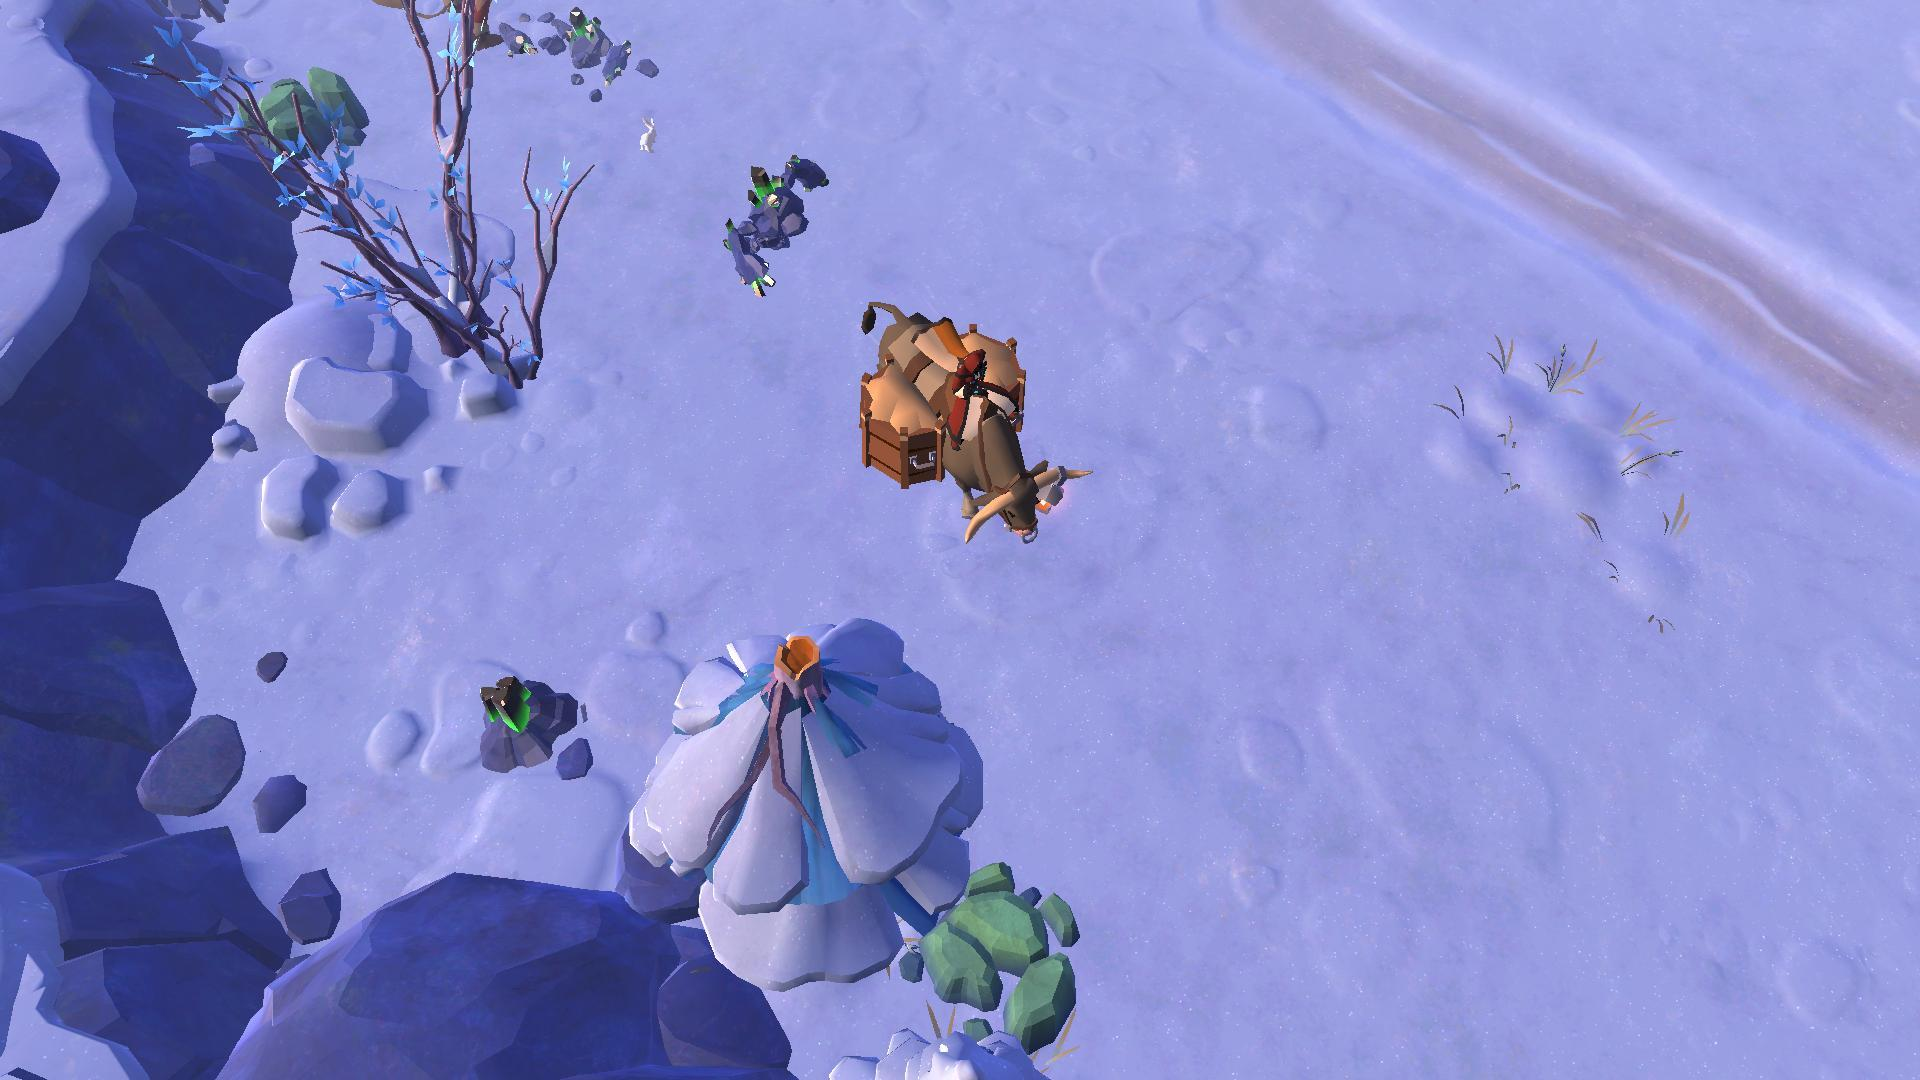ore_t3: (481, 678, 533, 732)
rock_t3: (895, 848, 1101, 1052), (241, 53, 365, 161)
